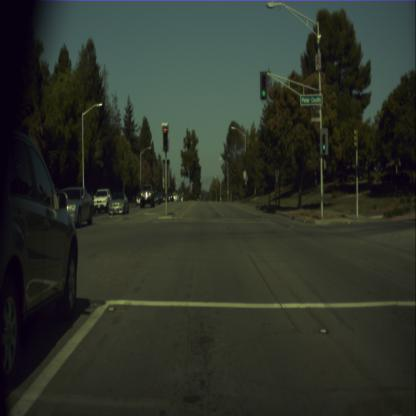Green: (262, 74, 266, 99), (322, 133, 325, 153)
RedLeft: (163, 126, 168, 150)
